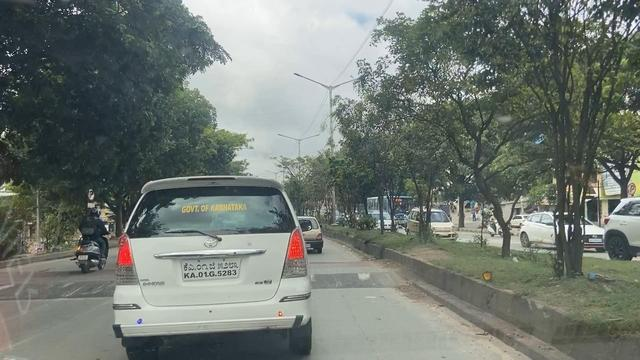LMV: (101, 169, 335, 360)
